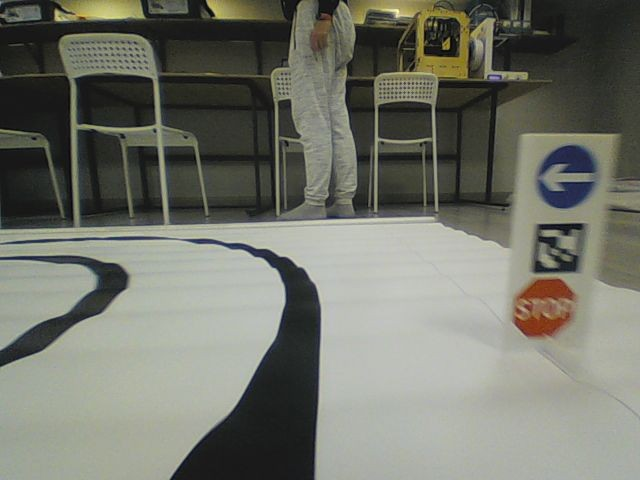Stop: (513, 276, 575, 338)
